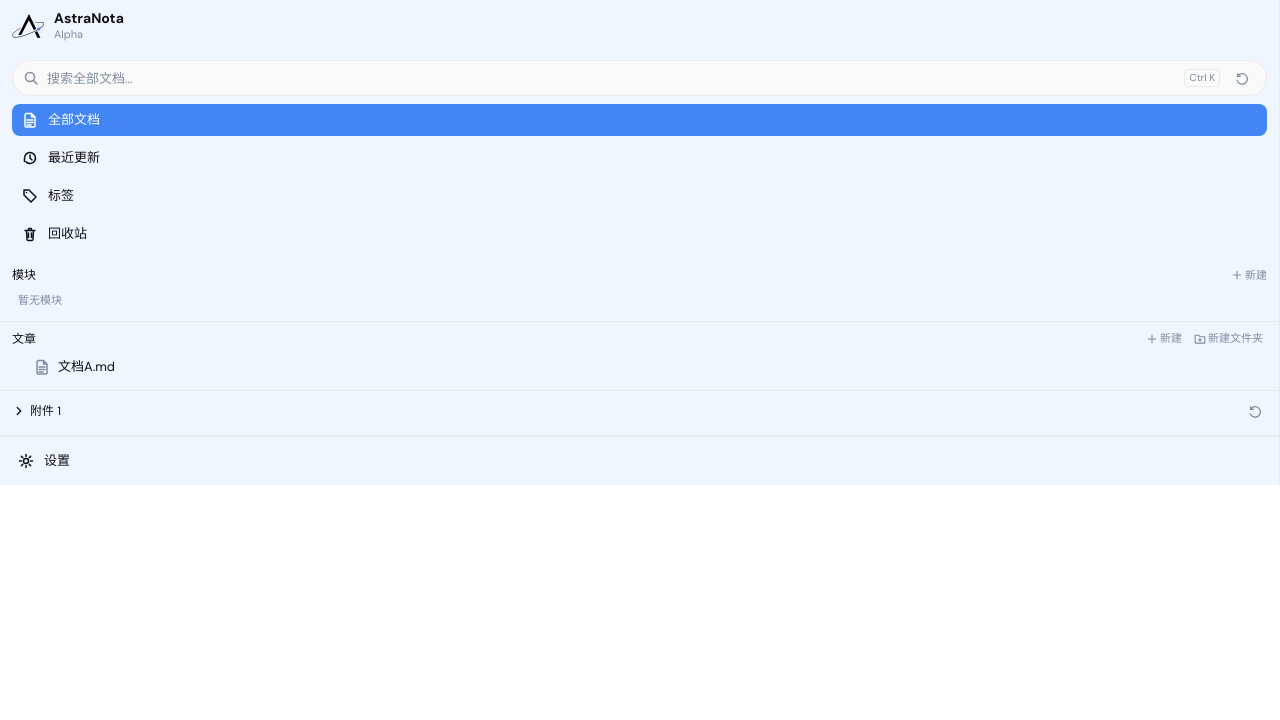
Test: L-1 默认收起语义 › aria-expanded 语义：默认 false → 点表头 true → 再点 false
What coordinates should you click on to do the following:
click the button "附件 1"
I would click on:
 (36, 410)
Its box is [12,402,61,420].
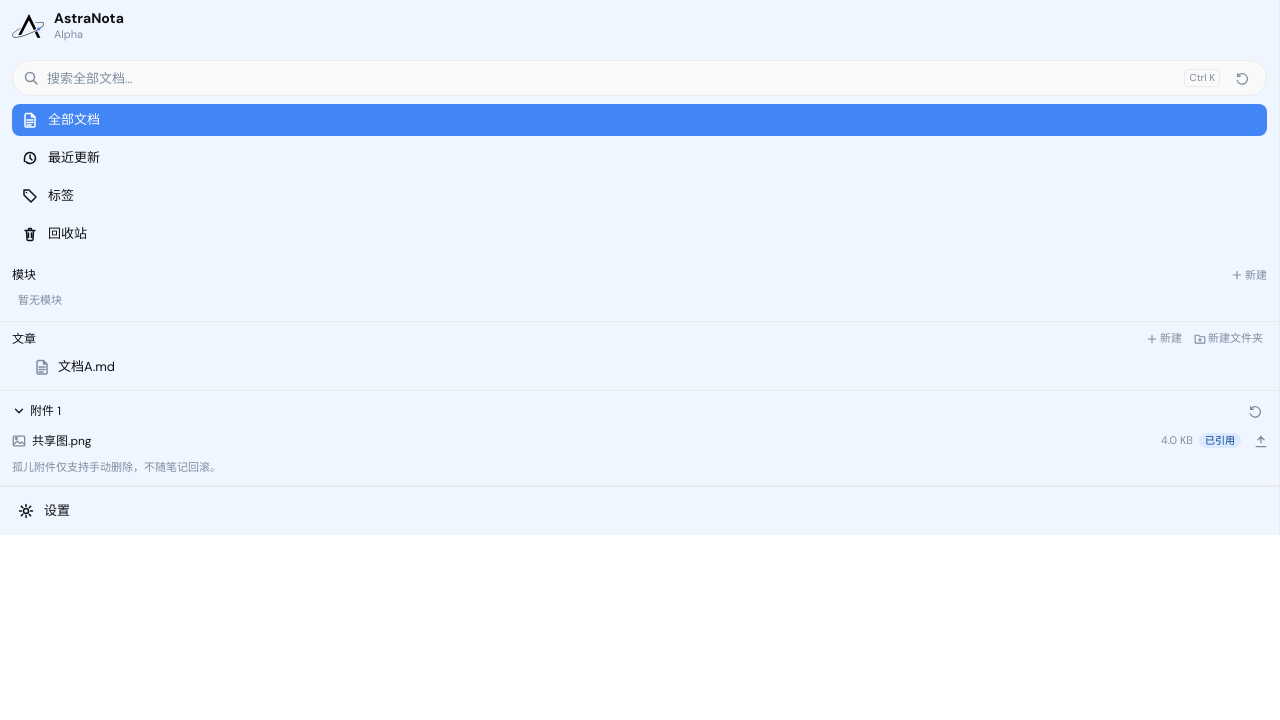
Result: the button "附件 1" is expanded
What coordinates should you click on to do the following:
click the button "附件 1"
I would click on:
 (36, 410)
Its box is [12,402,61,420].
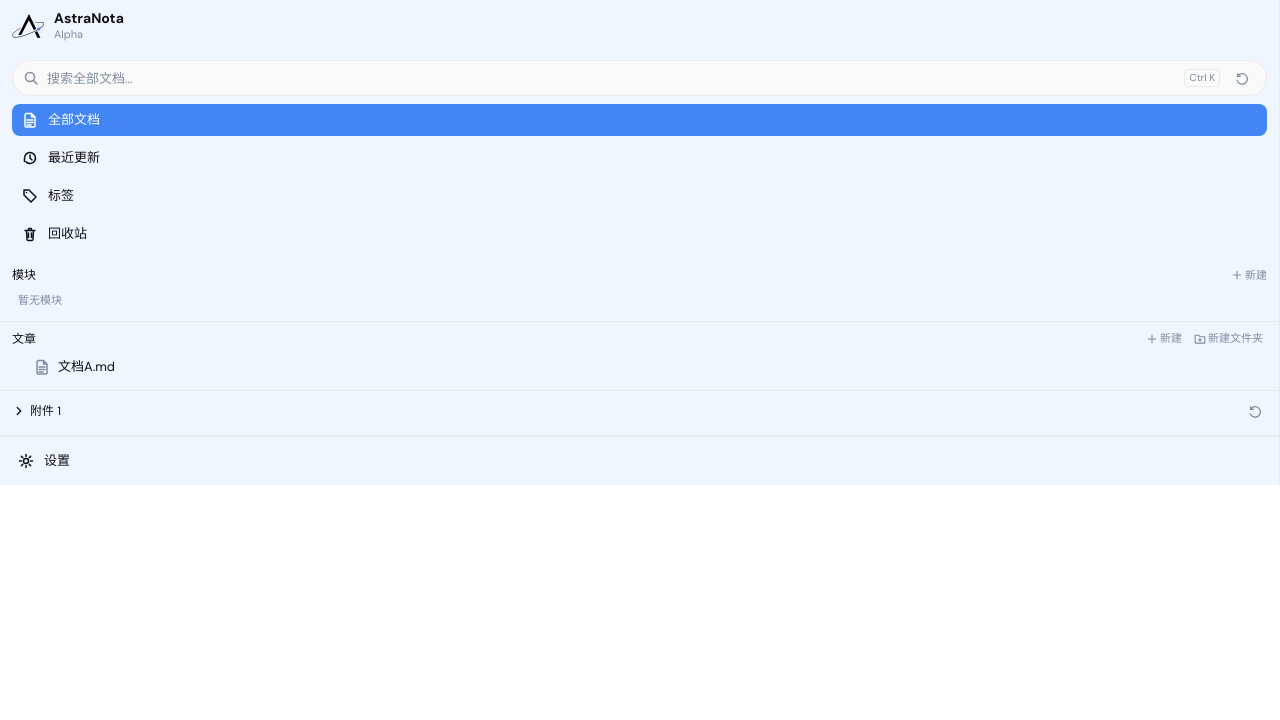
Result: the button "附件 1" is collapsed at [12,402,61,420]
